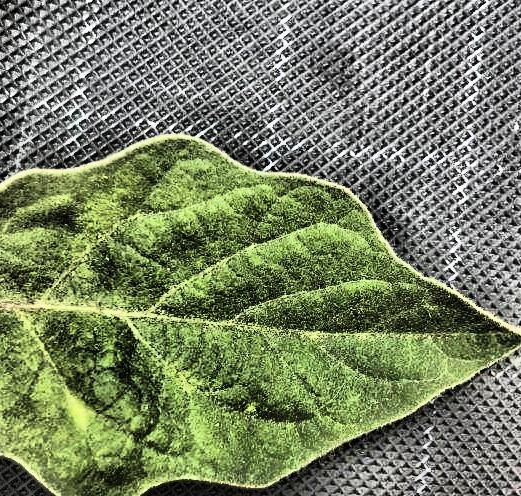HEALTHY: (0, 59, 306, 496)
